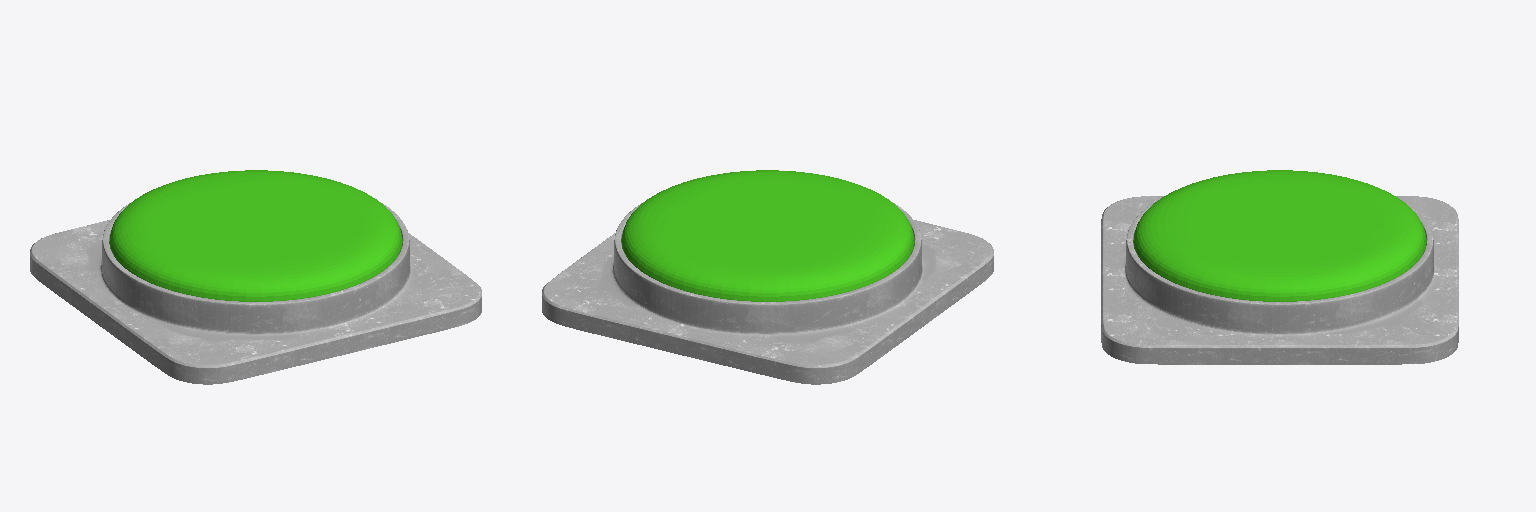
3 views of the same model, side by side, from view 1: azimuth 30°, elevation 25°; view 2: azimuth 150°, elevation 25°; view 3: azimuth 270°, elevation 25° (orthographic).
Parts seen in each view (by area): view 1: button_1_Cube_Cube.002, button2_Cylinder.001; view 2: button_1_Cube_Cube.002, button2_Cylinder.001; view 3: button_1_Cube_Cube.002, button2_Cylinder.001.
Boxes of the visible parts, x1=… form: button_1_Cube_Cube.002: x1=30, y1=179, x2=481, y2=384; button2_Cylinder.001: x1=109, y1=170, x2=402, y2=301; button_1_Cube_Cube.002: x1=542, y1=179, x2=993, y2=384; button2_Cylinder.001: x1=621, y1=170, x2=914, y2=301; button_1_Cube_Cube.002: x1=1101, y1=196, x2=1458, y2=364; button2_Cylinder.001: x1=1133, y1=170, x2=1426, y2=301.
Bounding box in the file's own units: 2 × 0.4061 × 2.
Materials: 1 (1 with a texture image).